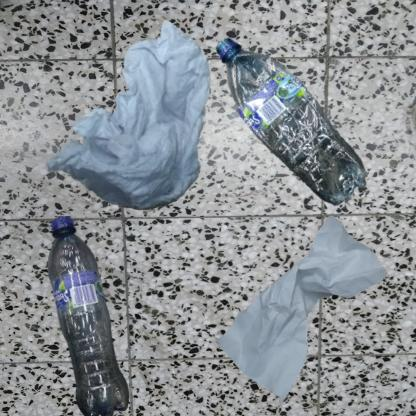botella: (213, 10, 396, 259), (10, 213, 181, 416)
papel: (10, 10, 284, 271), (213, 213, 388, 409)
